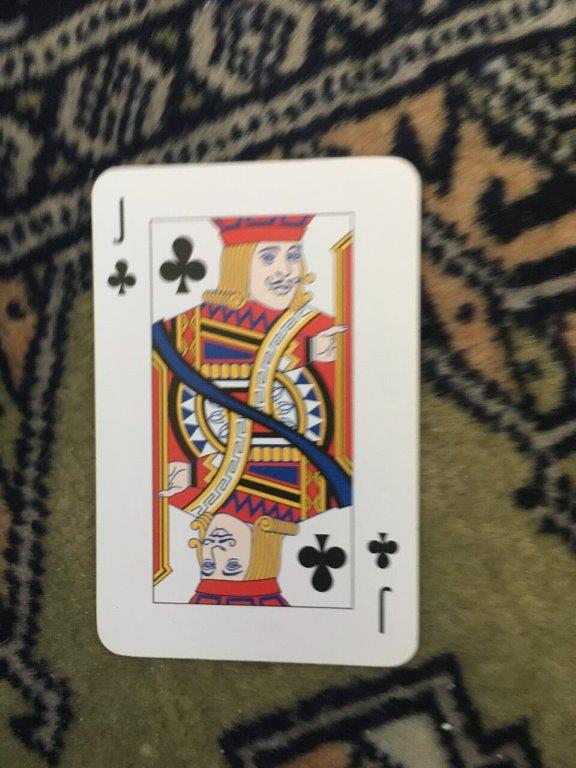JC: (87, 151, 425, 672)
